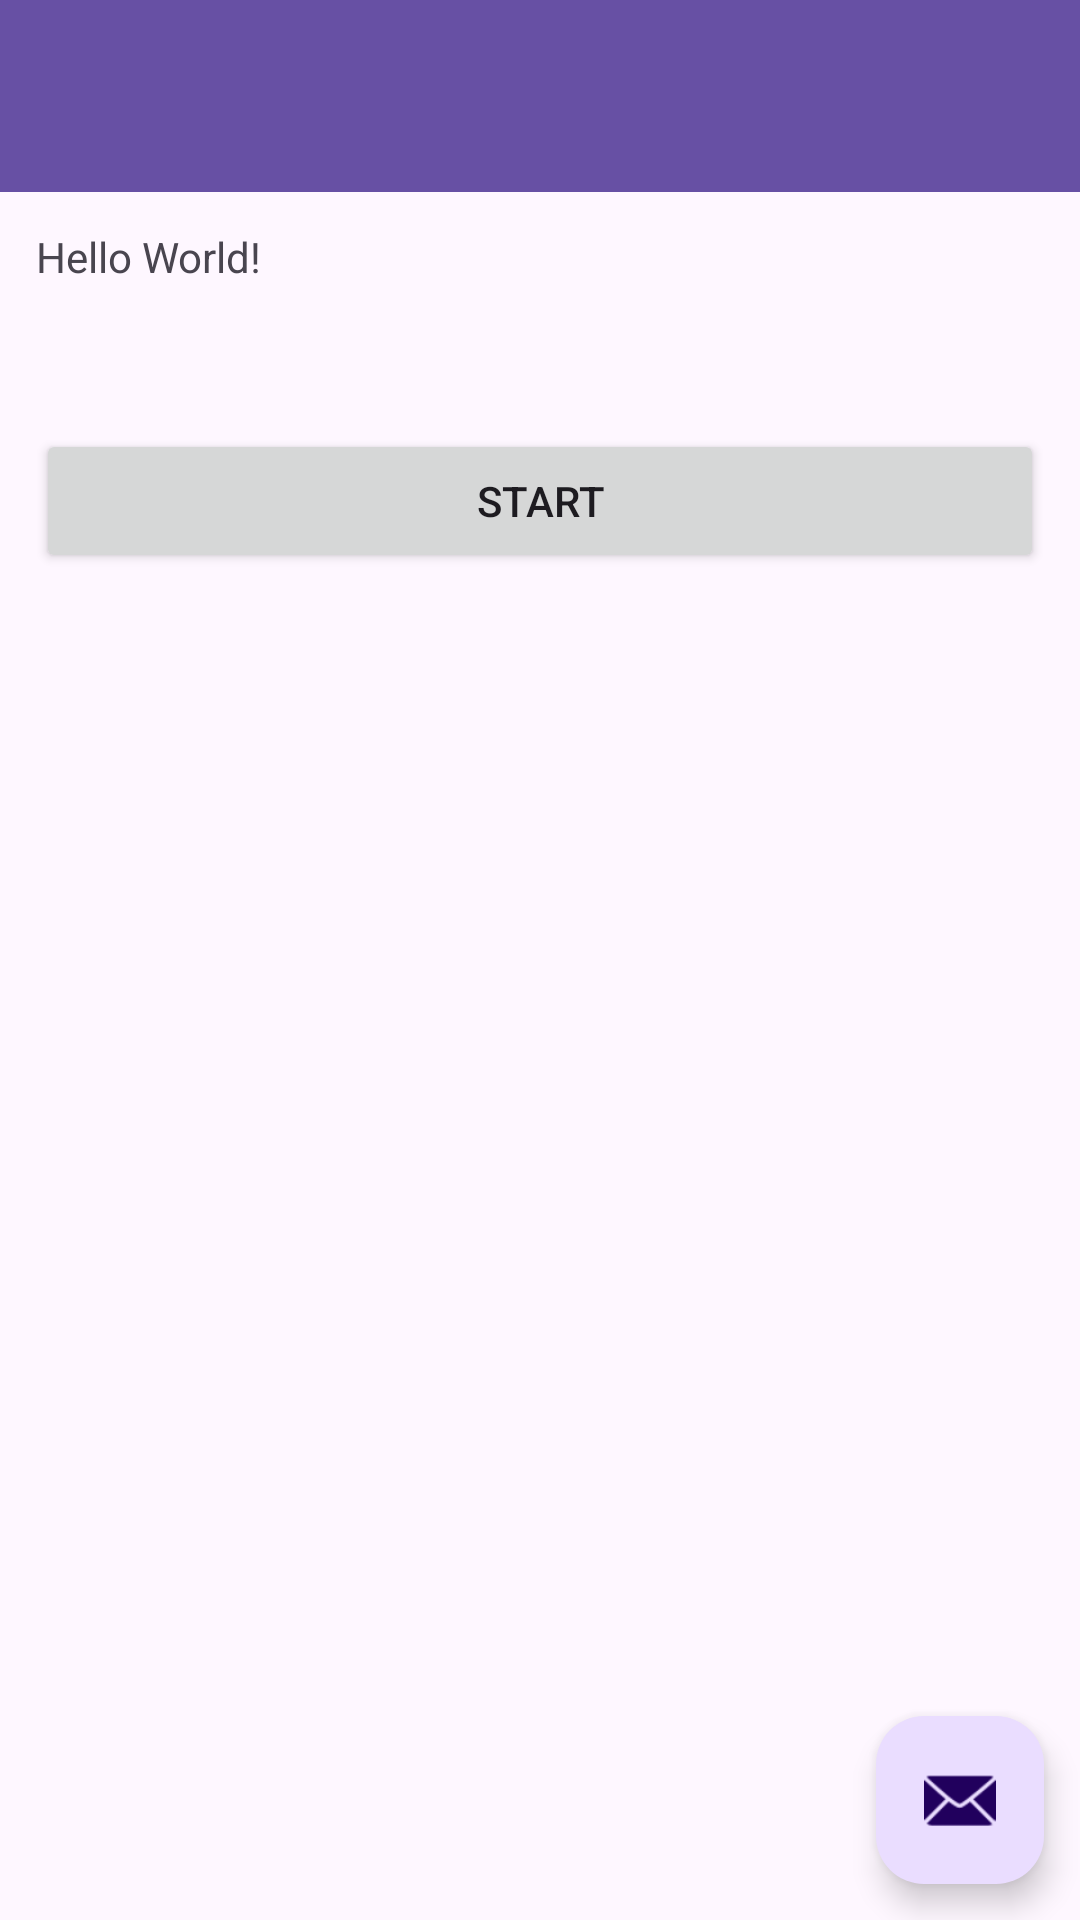

Locate icon controls on the screen. Image size 1080px×1920px, boxes as (x1, y1, x2, y2).
email: (876, 1716, 1044, 1884)
